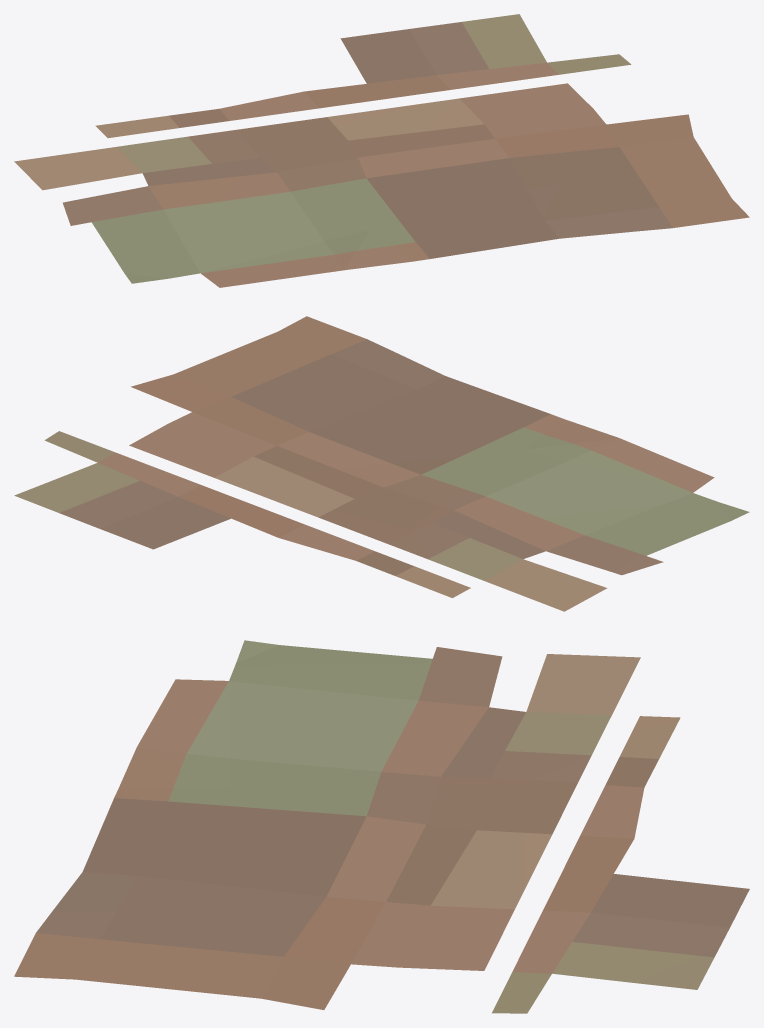
Rendered from farm_28_30_soil.glb.
The picture shows the model from 3 angles, top to bottom: view 1: azimuth 30°, elevation 25°; view 2: azimuth 150°, elevation 25°; view 3: azimuth 270°, elevation 25°; orthographic projection. The views are drawn at different scales.
Visible parts, largest first — view 1: geometry_0; view 2: geometry_0; view 3: geometry_0.
Boxes of the visible parts, <box> form: geometry_0: <box>14,14,749,287</box>; geometry_0: <box>14,316,749,611</box>; geometry_0: <box>14,640,749,1013</box>.
Bounding box in the file's own units: 245 × 2.79 × 200.
